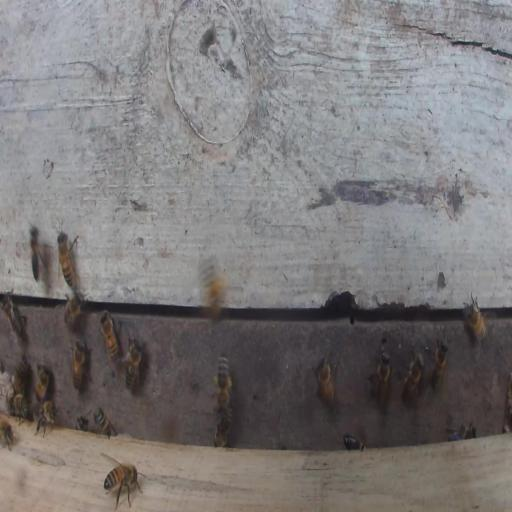bee: (103, 463, 144, 509), (199, 263, 230, 318), (368, 349, 391, 413), (313, 356, 339, 409), (57, 228, 79, 290), (1, 292, 27, 343), (463, 293, 487, 347), (71, 338, 93, 391), (428, 337, 449, 392), (99, 309, 119, 365), (124, 335, 143, 393), (403, 353, 424, 402), (214, 354, 232, 411), (29, 225, 46, 283), (63, 290, 86, 326), (11, 356, 31, 397), (214, 405, 233, 448), (93, 406, 116, 440), (36, 399, 57, 432), (34, 362, 51, 402), (10, 394, 32, 422), (0, 412, 14, 451), (343, 434, 365, 451), (446, 424, 466, 440), (462, 421, 476, 439), (76, 415, 89, 431)
